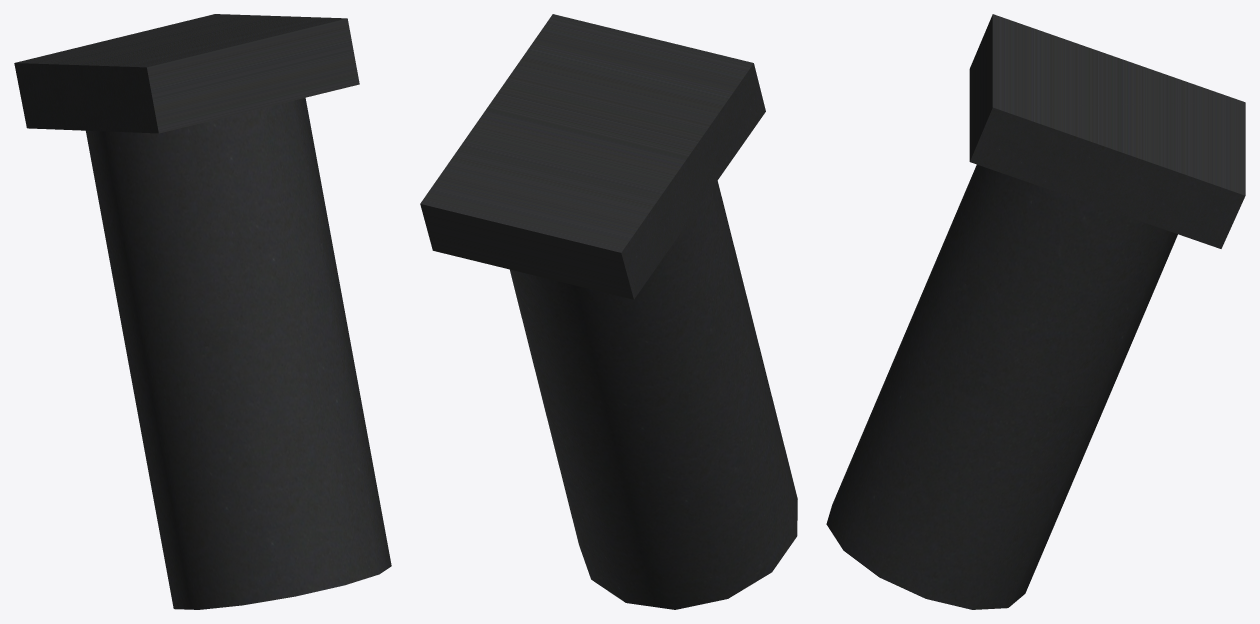
File: Bolt_Cam_Pin.dae
3 views of the same model, side by side, from view 1: azimuth 30°, elevation 25°; view 2: azimuth 150°, elevation 25°; view 3: azimuth 270°, elevation 25° (orthographic). The views are drawn at different scales.
Parts seen in each view (by area): view 1: Bolt_Cam_Pin; view 2: Bolt_Cam_Pin; view 3: Bolt_Cam_Pin.
Boxes of the visible parts, box(x1,y1,x2,y2) form: Bolt_Cam_Pin: box(14, 14, 391, 609); Bolt_Cam_Pin: box(420, 14, 797, 609); Bolt_Cam_Pin: box(826, 14, 1245, 609).
Bounding box in the file's own units: 0.00819 × 0.0155 × 0.0216.
1 material, 1 textured.
